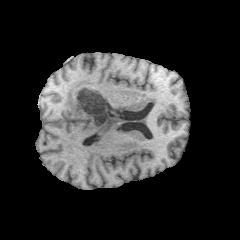glioma: (65, 79, 124, 138)
